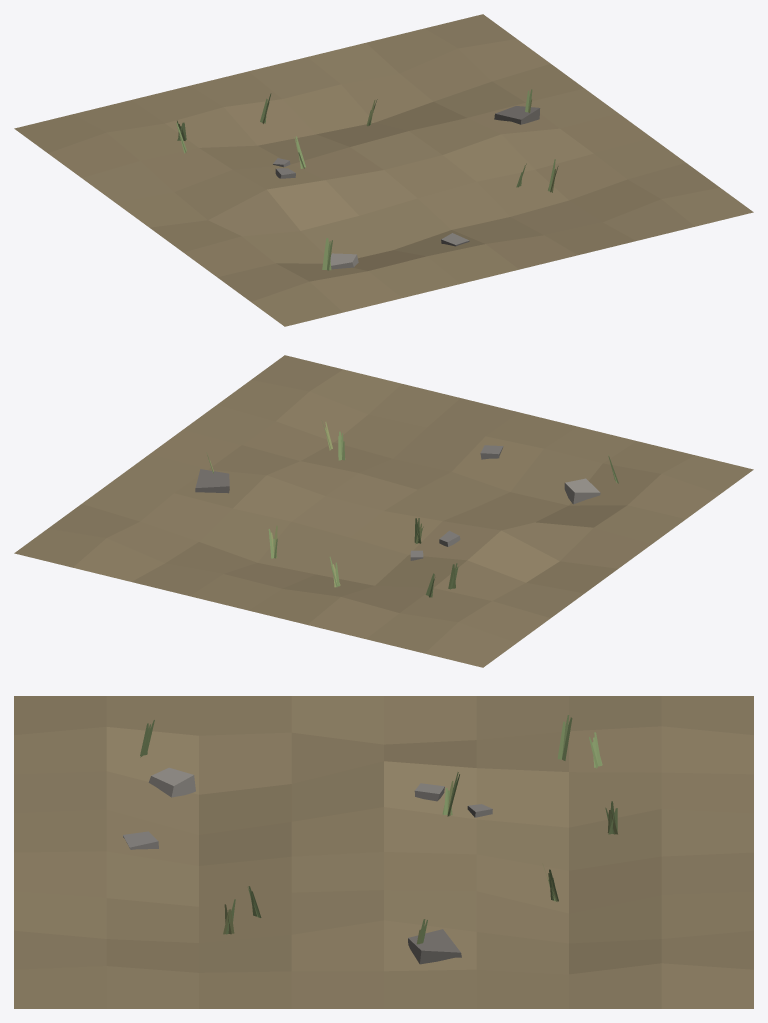
The model's file is overgrown_dirt_lowpoly.glb.
3 views of the same model, one above another, from view 1: azimuth 30°, elevation 25°; view 2: azimuth 150°, elevation 25°; view 3: azimuth 270°, elevation 25° (orthographic). The views are drawn at different scales.
Visible parts, largest first — view 1: Overgrown_dirtTile; view 2: Overgrown_dirtTile; view 3: Overgrown_dirtTile.
Part boxes in pixels (left/top/right/bottom): Overgrown_dirtTile: left=14, top=14, right=753, bottom=326; Overgrown_dirtTile: left=14, top=355, right=753, bottom=667; Overgrown_dirtTile: left=14, top=696, right=753, bottom=1008.
Size of the model in its own units: 1 by 0.1141 by 1.
